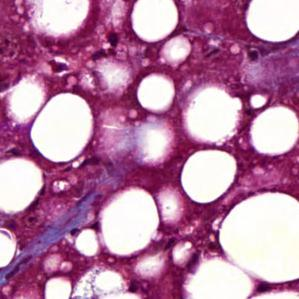steatosis: (30, 92, 94, 164), (179, 149, 239, 206), (245, 0, 299, 41), (132, 0, 180, 42)
